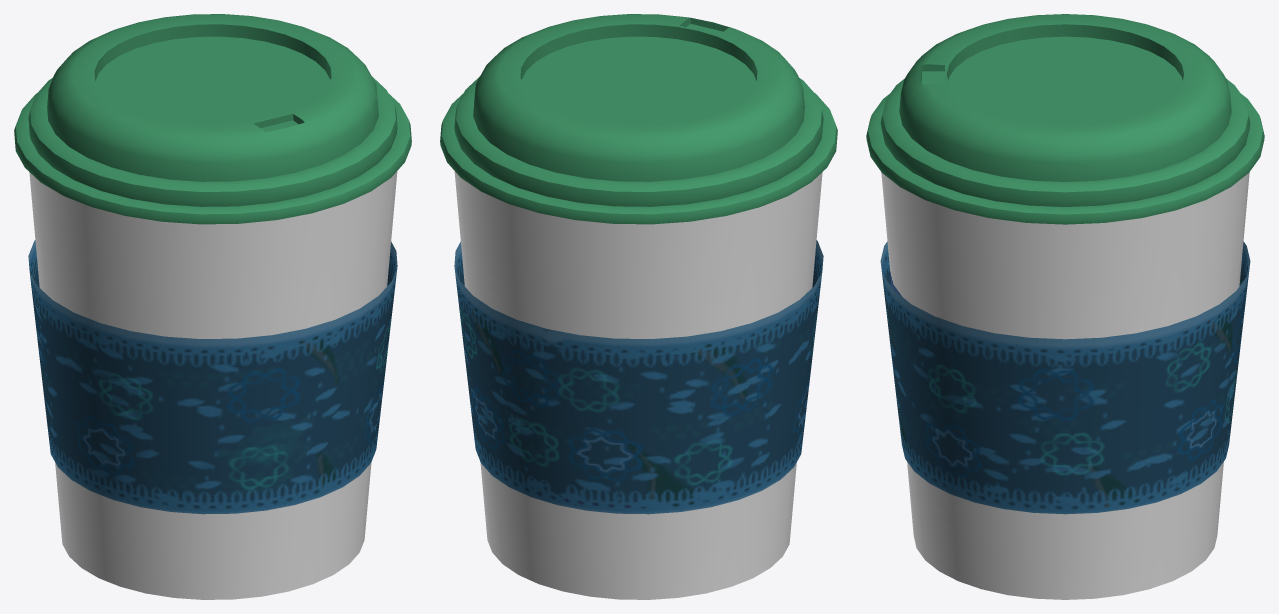
The model's file is Cup.fbx.
The picture shows the model from 3 angles, left to right: view 1: azimuth 30°, elevation 25°; view 2: azimuth 150°, elevation 25°; view 3: azimuth 270°, elevation 25°; orthographic projection.
Visible parts, largest first — view 1: Cup, Cup_Head, Cup_Sleeve; view 2: Cup, Cup_Head, Cup_Sleeve; view 3: Cup, Cup_Head, Cup_Sleeve.
Part boxes in pixels (bbox=[...]): Cup: bbox=[29, 171, 397, 599]; Cup_Head: bbox=[14, 14, 411, 224]; Cup_Sleeve: bbox=[28, 240, 397, 514]; Cup: bbox=[454, 171, 822, 599]; Cup_Head: bbox=[440, 14, 837, 224]; Cup_Sleeve: bbox=[454, 240, 823, 514]; Cup: bbox=[881, 172, 1249, 599]; Cup_Head: bbox=[866, 14, 1264, 224]; Cup_Sleeve: bbox=[880, 242, 1250, 514].
Bounding box in the file's own units: 165 × 211 × 165.
